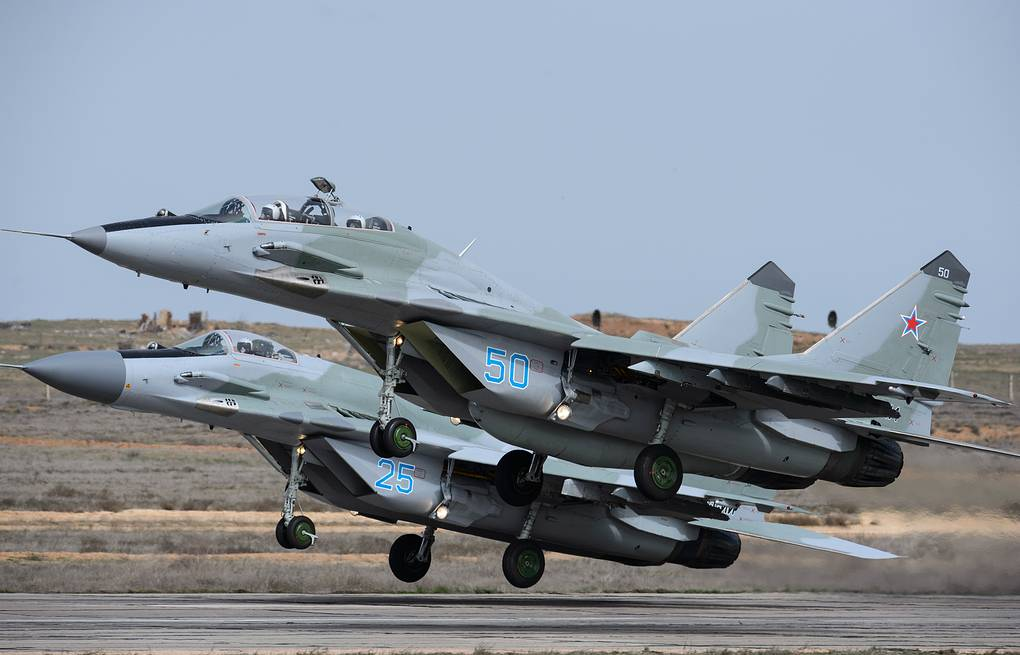Mig-29: (49, 111, 1001, 511), (24, 315, 817, 613)
